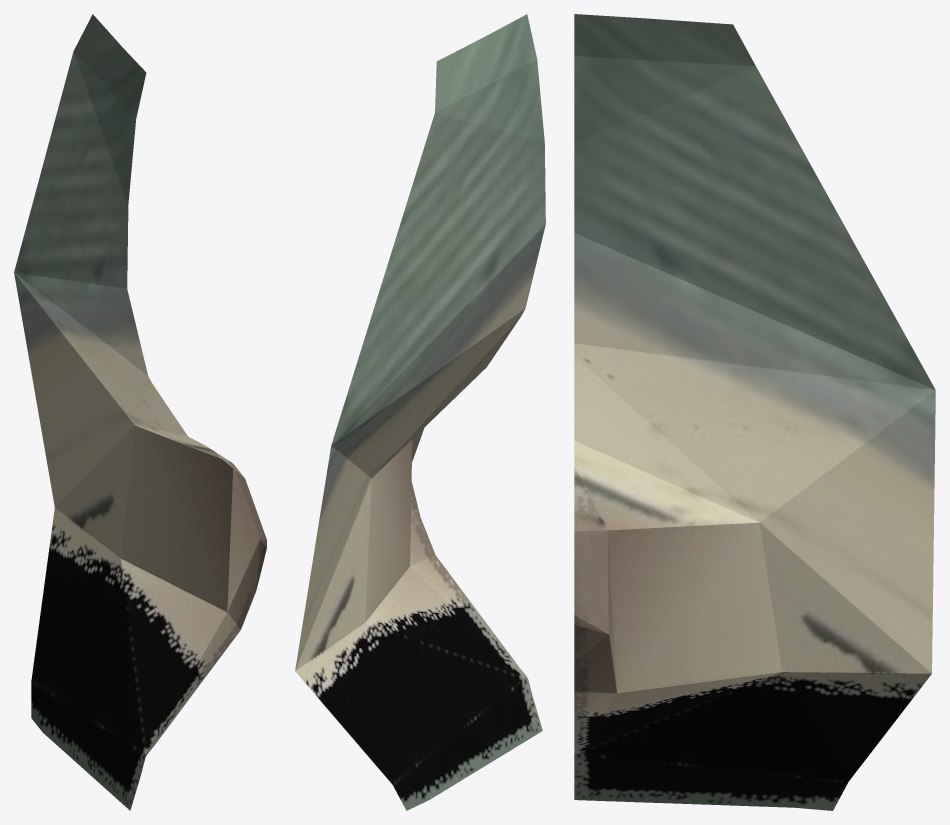
3 views of the same model, side by side, from view 1: azimuth 30°, elevation 25°; view 2: azimuth 150°, elevation 25°; view 3: azimuth 270°, elevation 25° (orthographic). The views are drawn at different scales.
Size of the model in its own units: 0.3554 by 1.67 by 0.6909.
Materials: 1 (1 with a texture image).
